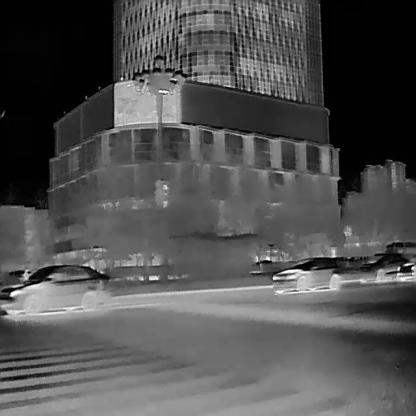car: (0, 264, 109, 314), (272, 257, 348, 291), (358, 252, 410, 279), (396, 257, 415, 280)
